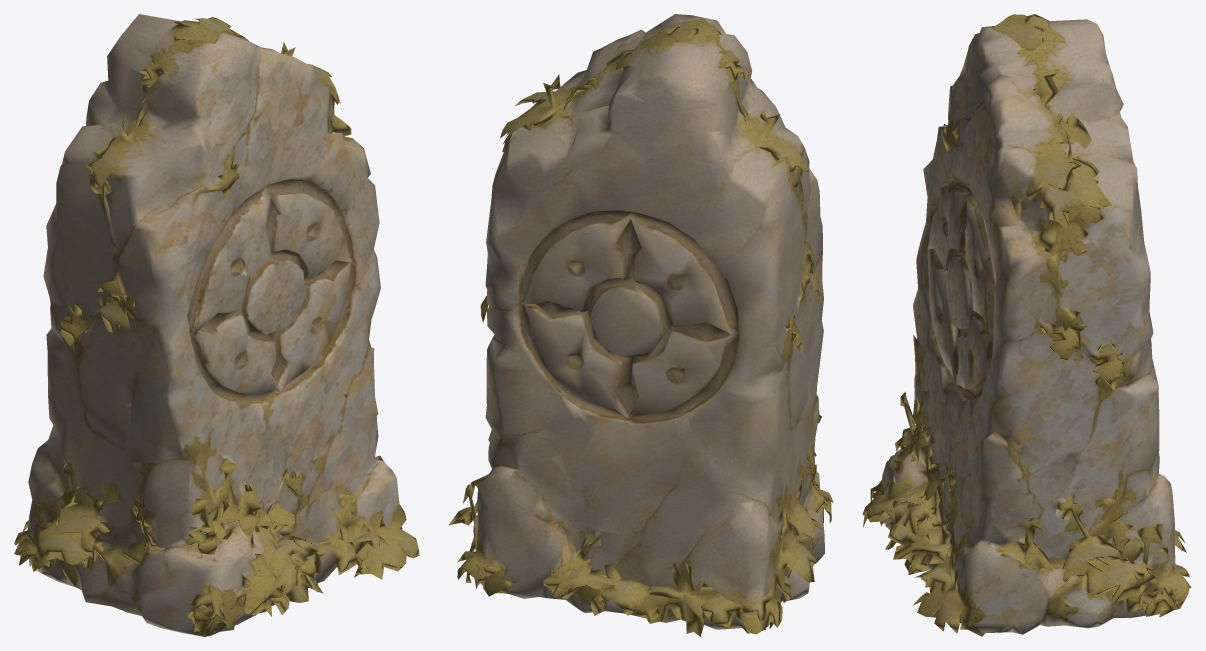
File: raw.glb
The picture shows the model from 3 angles, left to right: view 1: azimuth 30°, elevation 25°; view 2: azimuth 150°, elevation 25°; view 3: azimuth 270°, elevation 25°; orthographic projection. The views are drawn at different scales.
Visible parts, largest first — view 1: tripo_node_2c86e315-e78f-4bfb-98c6-983910b79752; view 2: tripo_node_2c86e315-e78f-4bfb-98c6-983910b79752; view 3: tripo_node_2c86e315-e78f-4bfb-98c6-983910b79752.
Part boxes in pixels (x1=…): tripo_node_2c86e315-e78f-4bfb-98c6-983910b79752: x1=14, y1=14, x2=419, y2=636; tripo_node_2c86e315-e78f-4bfb-98c6-983910b79752: x1=449, y1=14, x2=833, y2=636; tripo_node_2c86e315-e78f-4bfb-98c6-983910b79752: x1=862, y1=14, x2=1191, y2=636.
Size of the model in its own units: 0.6274 by 1 by 0.5591.
1 material, 1 textured.
